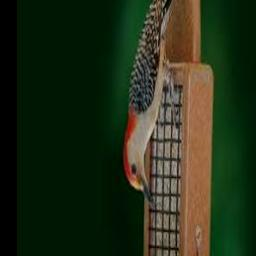Woodpecker: (124, 0, 189, 210)
